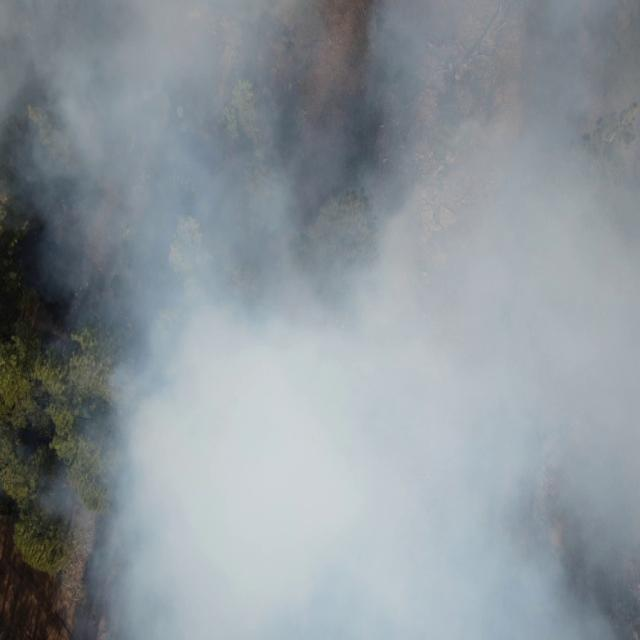fire: (538, 466, 565, 499), (545, 519, 564, 551)
smoke: (49, 0, 640, 640), (0, 0, 49, 508)
